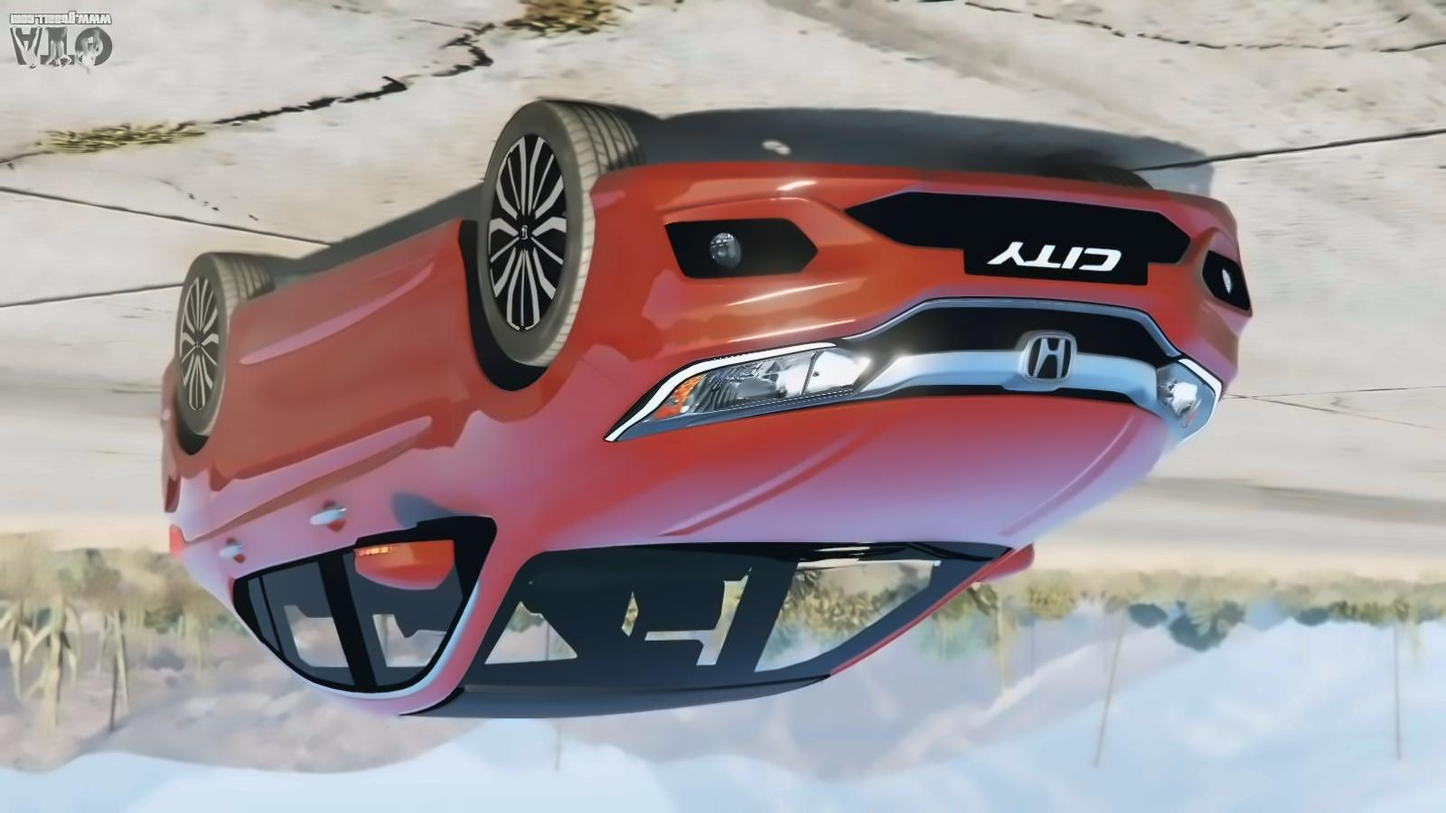Car hood: (548, 389, 1171, 556)
Fender - -R-L-: (452, 212, 635, 555), (168, 302, 242, 520)
Front bumper: (580, 154, 1263, 389)
Headlight - -L-: (591, 333, 872, 448)
Headlight - -R-: (1148, 338, 1233, 443)
Passenger-s door - -F-L-: (320, 242, 497, 706)
Passenger-s door - -R-L-: (204, 289, 347, 686)
Rear bumper: (129, 353, 191, 441)
Rear light - -L-: (150, 508, 196, 573)
Side bumper - -L-: (224, 210, 481, 328)
Side mirror - -L-: (344, 528, 461, 604)
Side mirror - -R-: (960, 535, 1054, 591)
